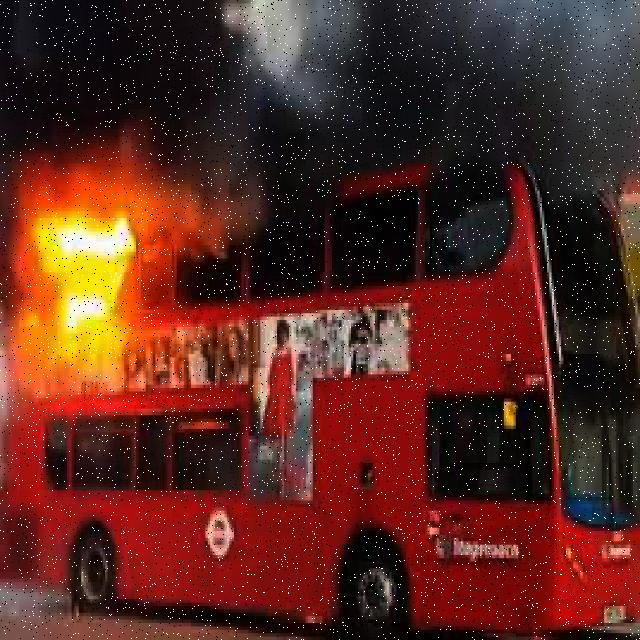fire: (38, 203, 140, 346)
smoke: (4, 6, 640, 172)
